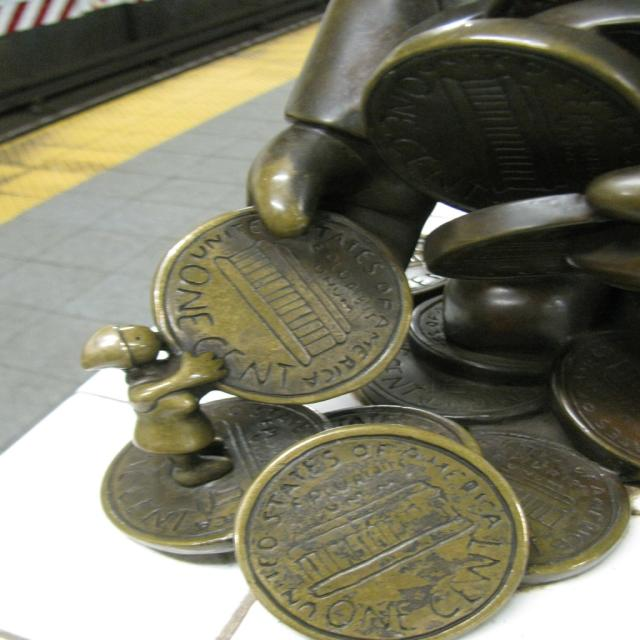Coin: (232, 422, 541, 640), (146, 200, 417, 408), (355, 18, 639, 210), (95, 398, 331, 569), (469, 427, 631, 590), (413, 190, 624, 284), (351, 336, 562, 427), (407, 290, 553, 390), (548, 323, 639, 477)
